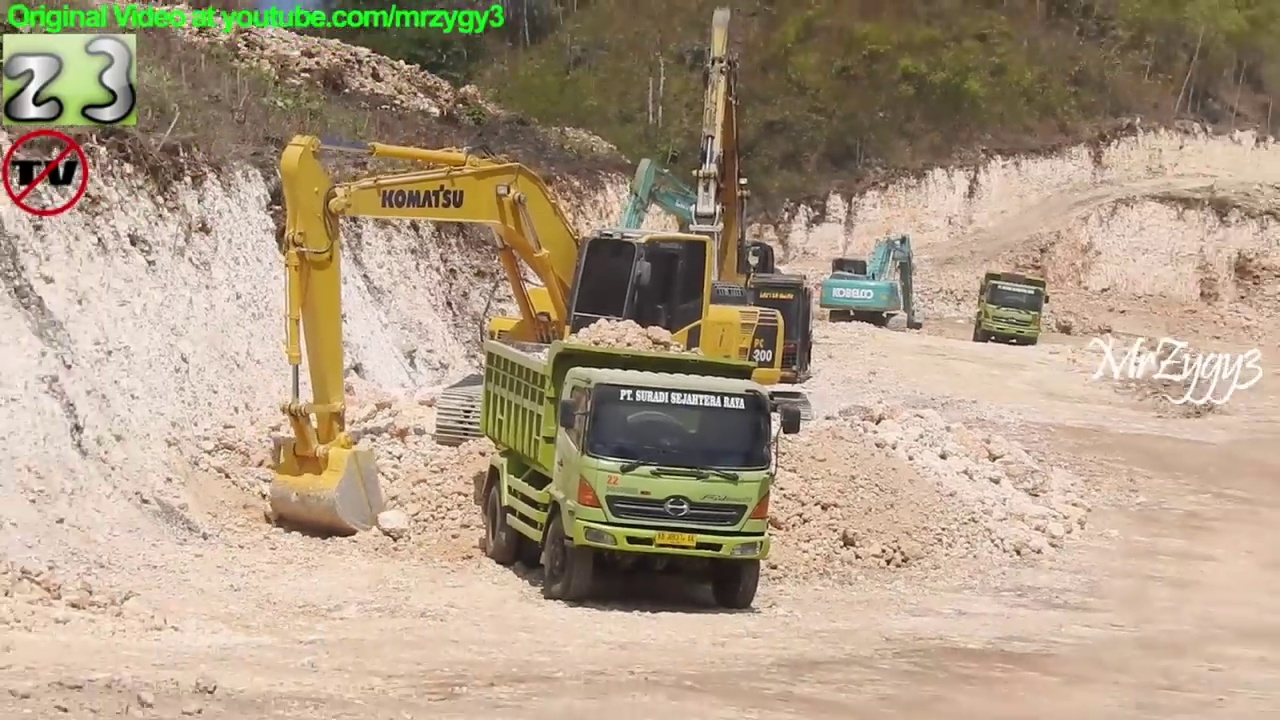excavator: (261, 134, 786, 540), (526, 3, 817, 445), (816, 233, 930, 340)
truck: (477, 333, 806, 616), (972, 271, 1054, 348)
